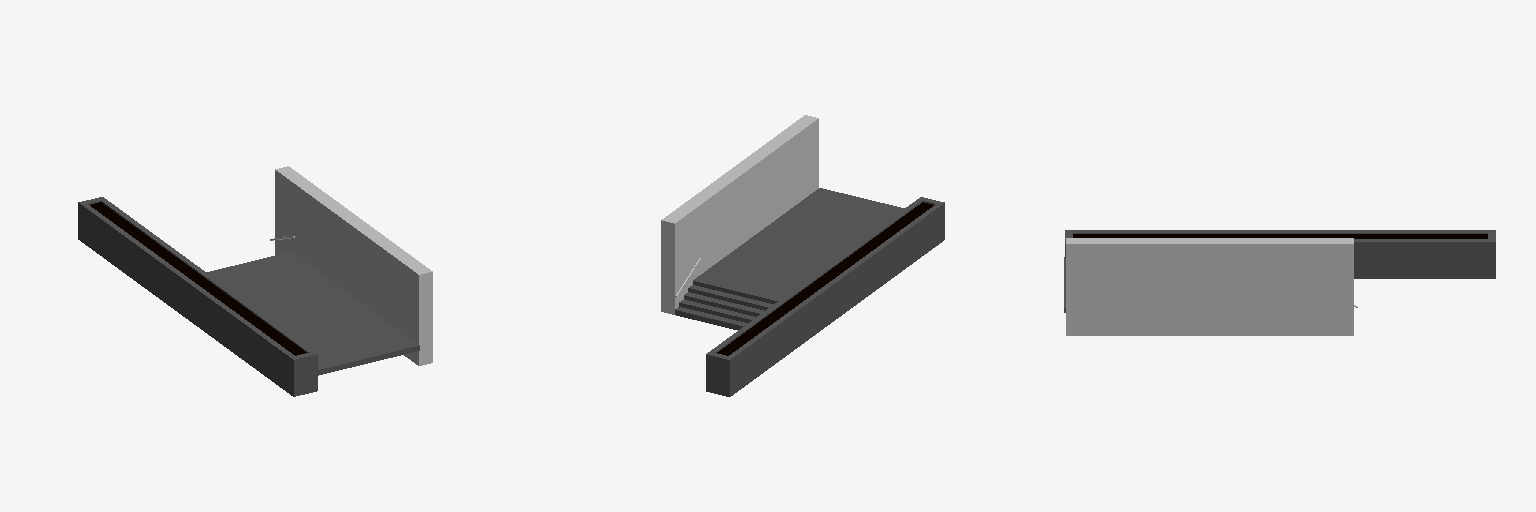
File: stairs.obj
The picture shows the model from 3 angles: view 1: azimuth 30°, elevation 25°; view 2: azimuth 150°, elevation 25°; view 3: azimuth 270°, elevation 25°; orthographic projection.
Visible parts, largest first — view 1: Cube; view 2: Cube; view 3: Cube.
Part boxes in pixels (left/top/right/bottom): Cube: left=78, top=166, right=432, bottom=396; Cube: left=661, top=115, right=944, bottom=396; Cube: left=1064, top=230, right=1495, bottom=335.
Bounding box in the file's own units: 5.43 × 3.4 × 14.51.